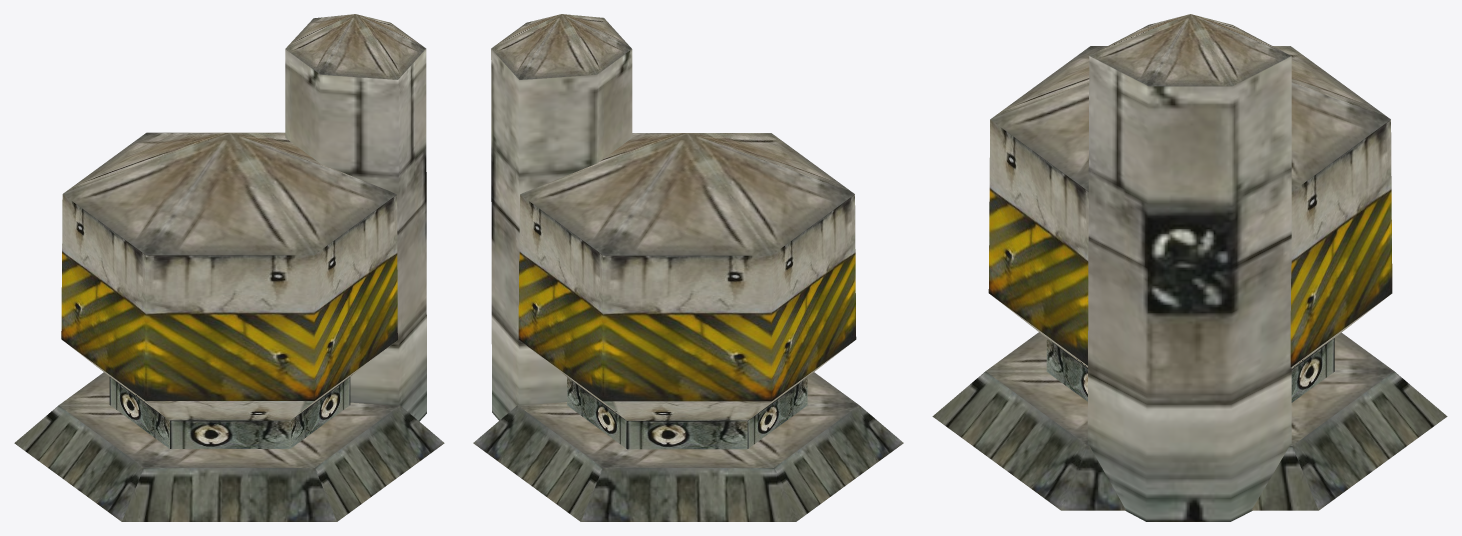
Rendered from smallfueltank_hdtex.glb.
3 renders of one model, left to right at view 1: azimuth 30°, elevation 25°; view 2: azimuth 150°, elevation 25°; view 3: azimuth 270°, elevation 25°, orthographic. The views are drawn at different scales.
Parts seen in each view (by area): view 1: smallfueltank; view 2: smallfueltank; view 3: smallfueltank.
Part boxes in pixels (box(x1,y1,x2,y2)): smallfueltank: box(14, 14, 444, 521); smallfueltank: box(473, 14, 903, 521); smallfueltank: box(932, 14, 1447, 521).
Size of the model in its own units: 7.67 by 8.58 by 8.39.
Materials: 1 (1 with a texture image).
